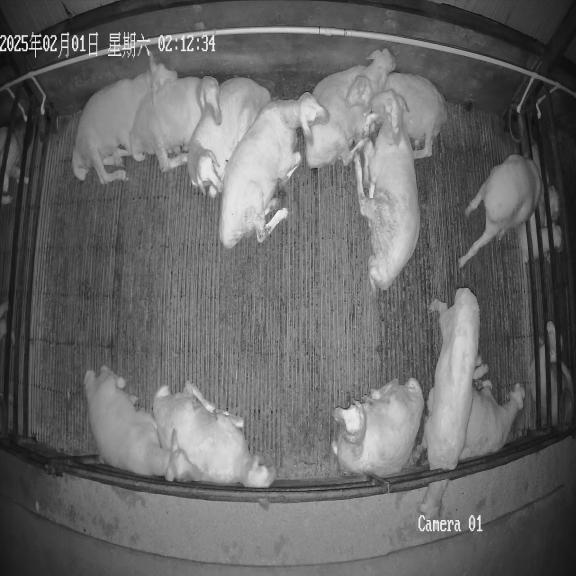eating: (422, 288, 488, 470), (420, 478, 448, 518)
lying: (219, 92, 327, 249), (72, 52, 177, 184), (84, 366, 203, 481), (353, 91, 420, 290), (152, 381, 275, 487), (305, 48, 395, 168), (187, 77, 270, 197), (331, 378, 424, 478), (346, 71, 447, 159), (129, 76, 221, 172), (459, 380, 525, 460)
stand: (459, 154, 542, 267)
